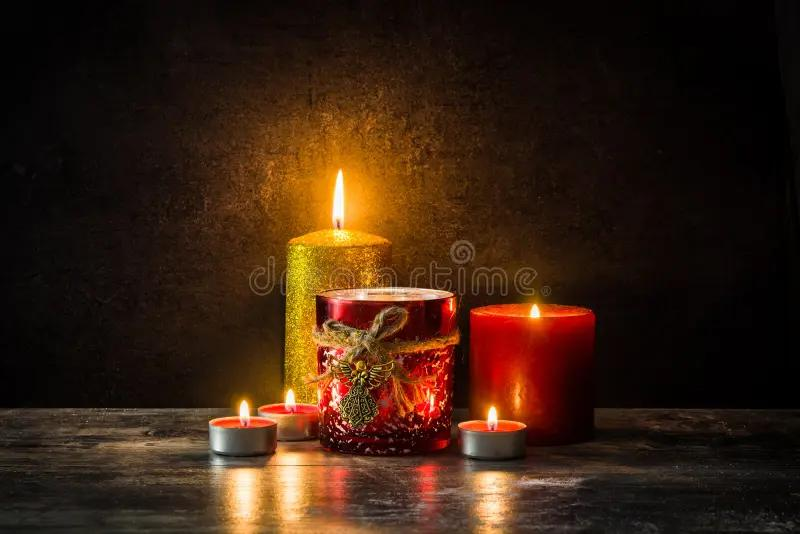controlled_fire: (281, 114, 397, 270), (204, 360, 314, 433), (486, 288, 604, 345), (472, 400, 556, 457)
